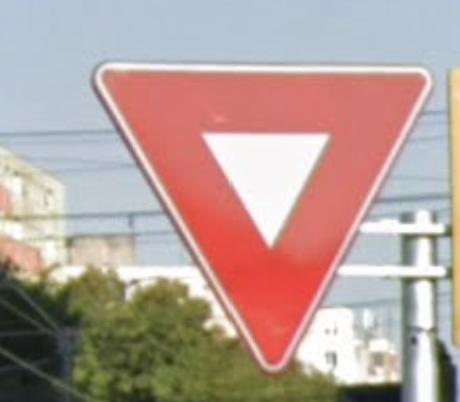cedeaza: (77, 50, 439, 380)
